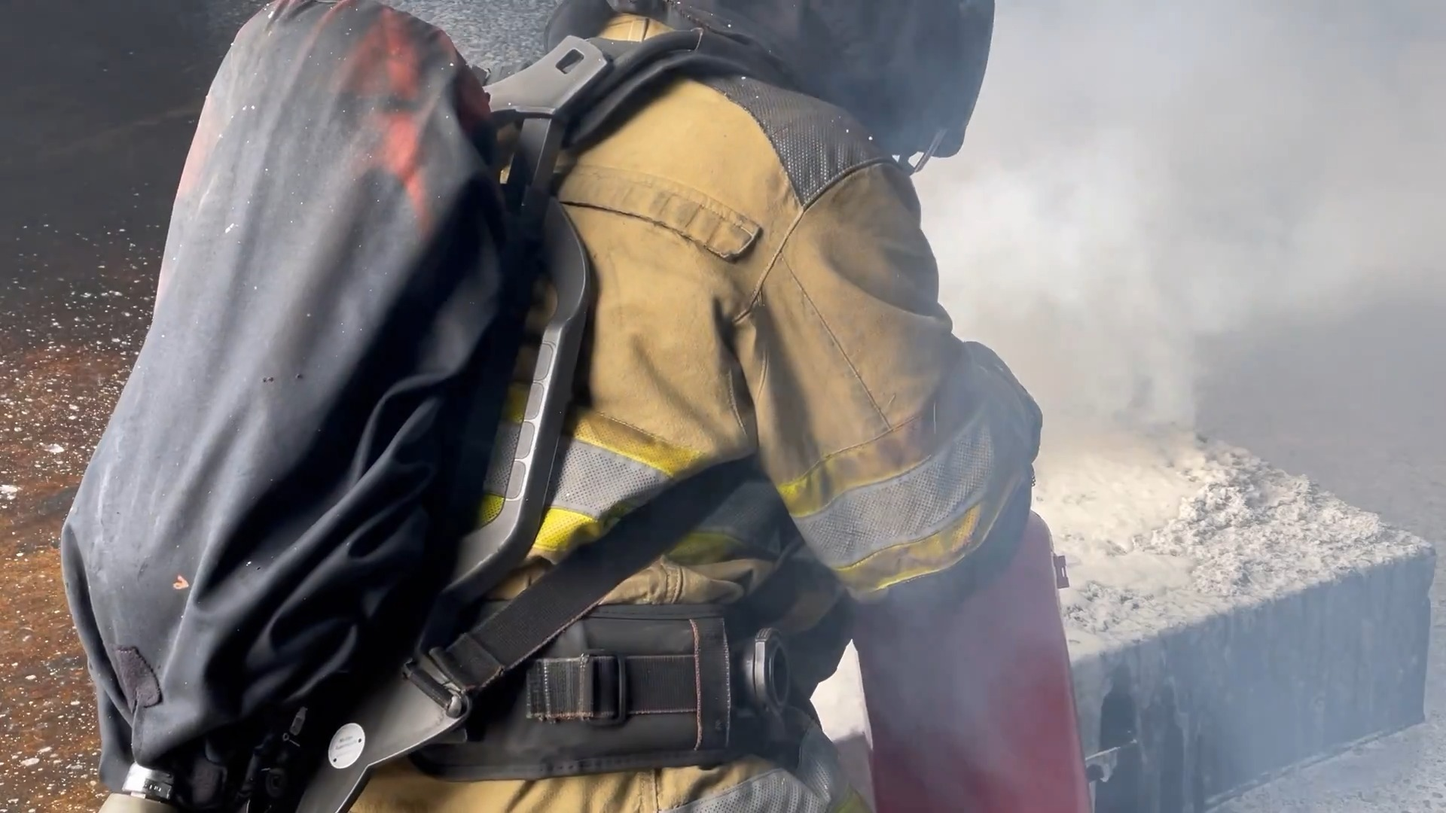smoke: (926, 0, 1446, 525)
